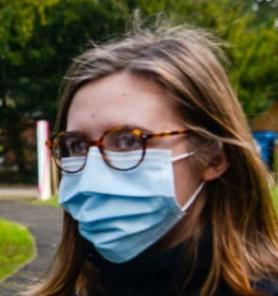OK: (64, 99, 188, 260)
